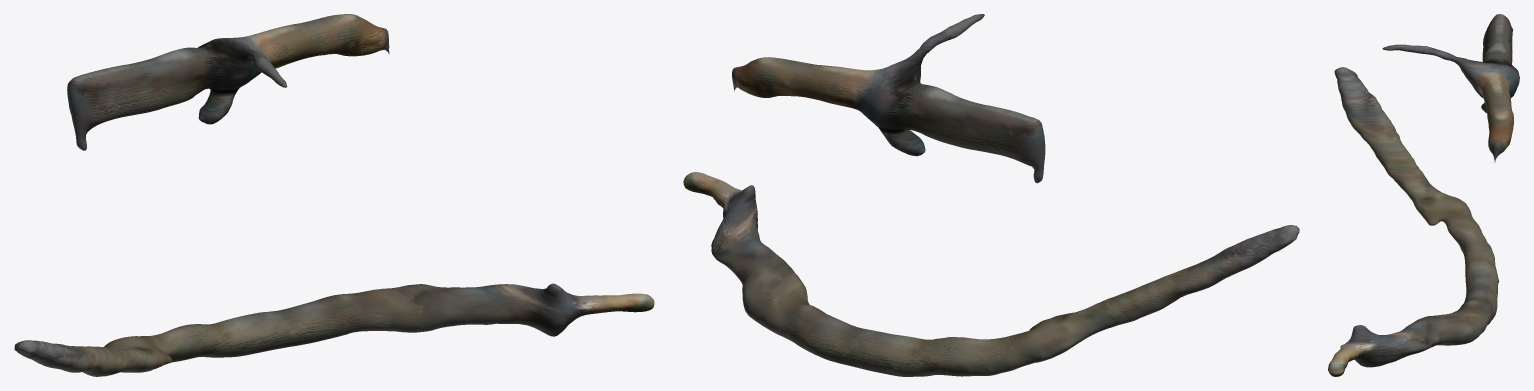
The model's file is kfl-2129.glb.
3 renders of one model, left to right at view 1: azimuth 30°, elevation 25°; view 2: azimuth 150°, elevation 25°; view 3: azimuth 270°, elevation 25°, orthographic. The views are drawn at different scales.
Visible parts, largest first — view 1: geometry_0; view 2: geometry_0; view 3: geometry_0.
Part boxes in pixels (box(x1,y1,x2,y2)): geometry_0: box(14, 14, 654, 376); geometry_0: box(683, 14, 1299, 376); geometry_0: box(1328, 14, 1519, 376).
Bounding box in the file's own units: 0.9889 × 0.4924 × 0.3506.
1 material, 1 textured.
